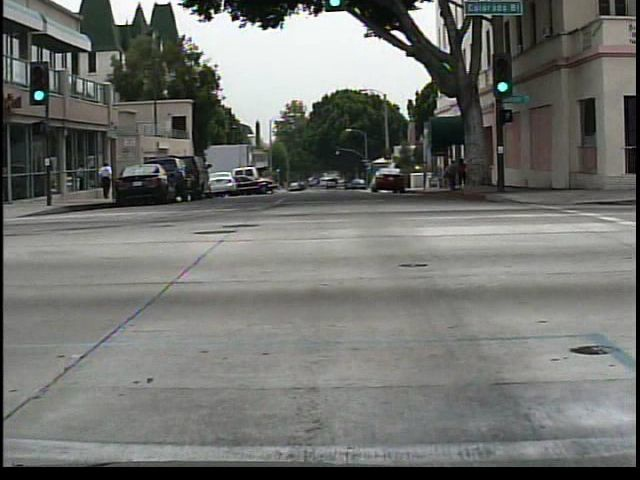person: (452, 152, 477, 200), (99, 154, 115, 203), (442, 159, 460, 193)
